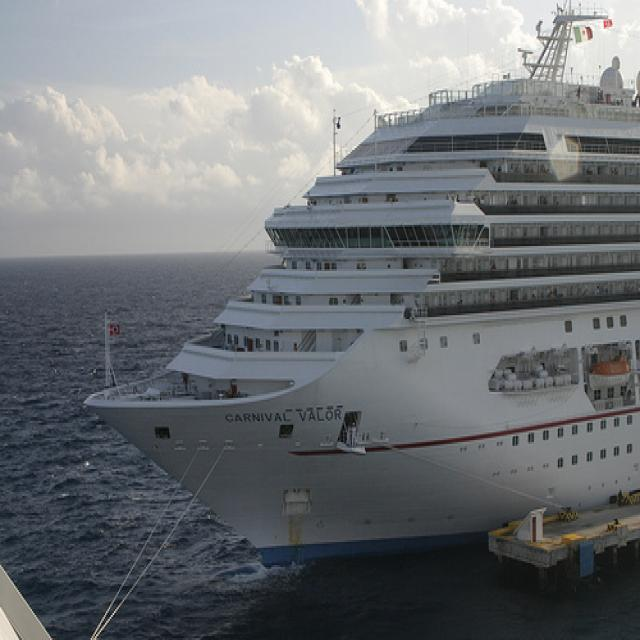Ship: (88, 27, 640, 556)
